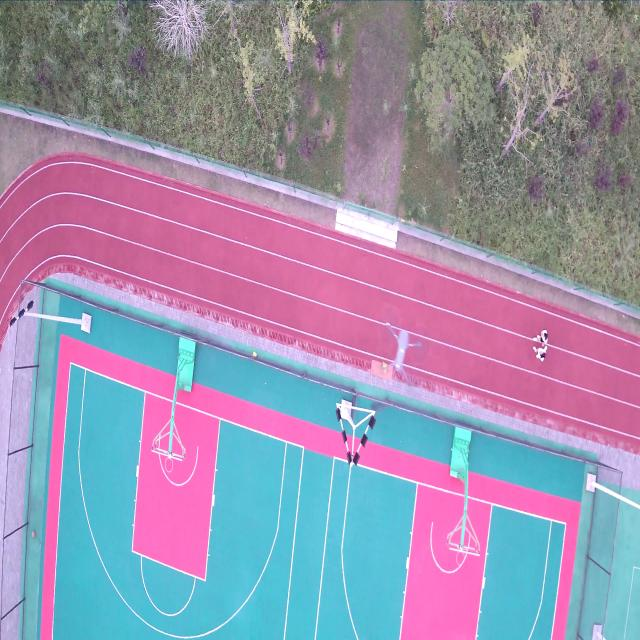UAV: (380, 319, 423, 388)
